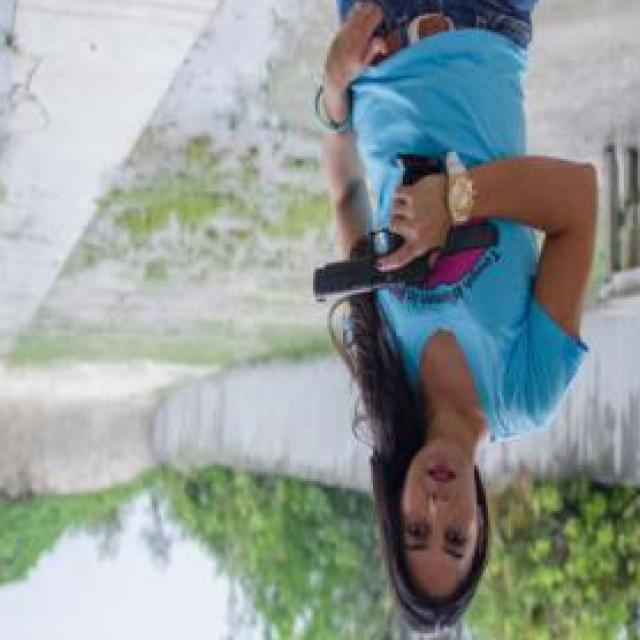pistol: (310, 141, 444, 313)
